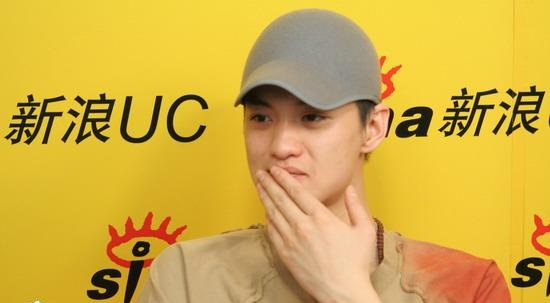face: (245, 67, 362, 201)
